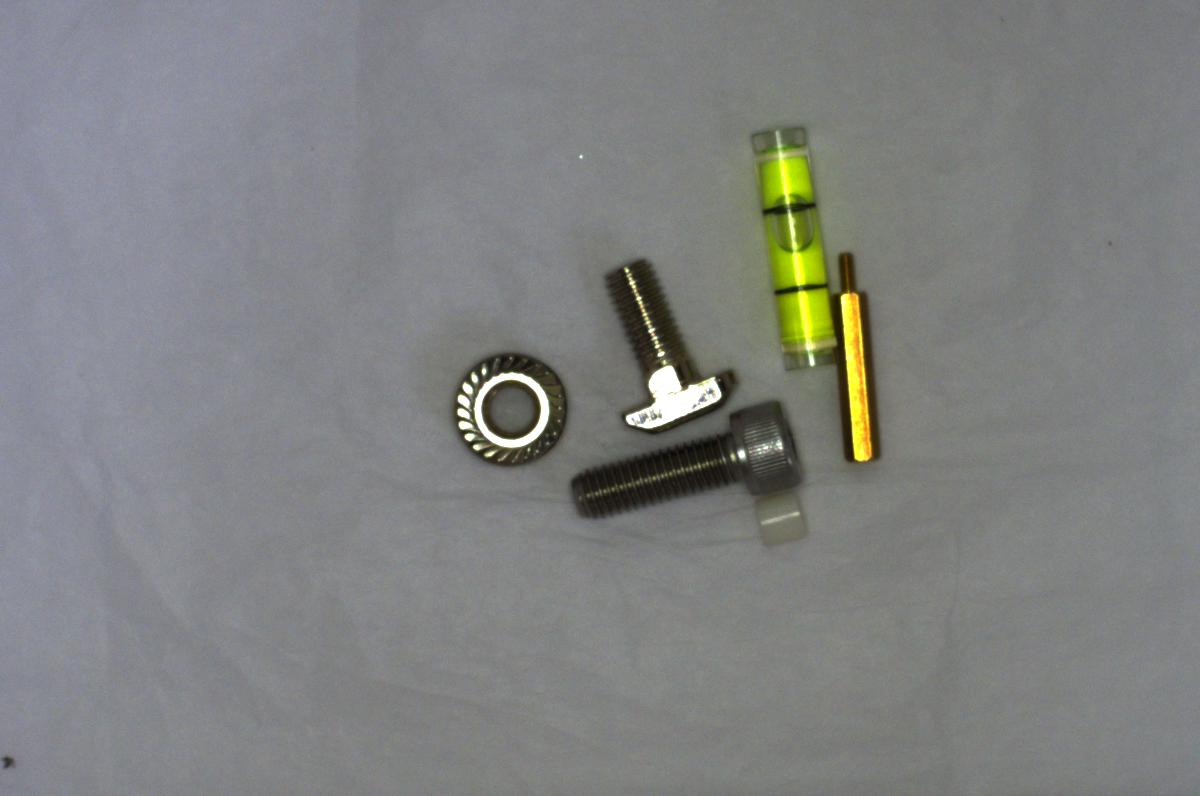Flange nut: (441, 345, 571, 473)
Hexagon pillar: (826, 242, 883, 472)
Hexagon screw: (576, 394, 811, 522)
Horizontal bubble: (751, 119, 828, 373)
Plastic cushion pillar: (747, 487, 813, 552)
T-shaped screw: (594, 249, 738, 430)
